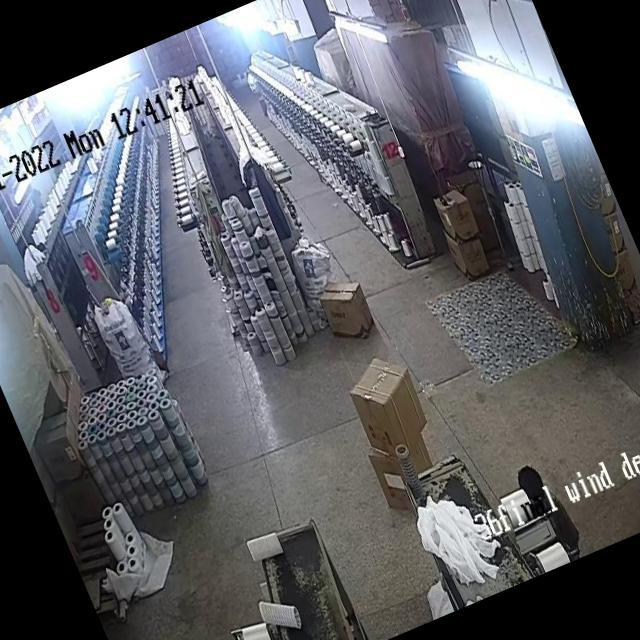person: (512, 459, 560, 530)
